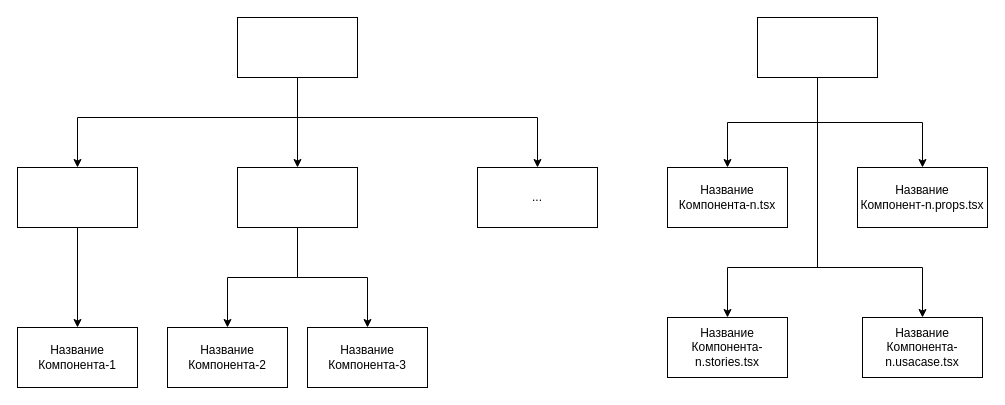
Some shapes in this 1005 by 405 pixel diagram are drawn without their labels. The shapes that lost their labels are listed below. From the top down, each one's centre as x and y in pixels, then its label:
At (297,47): "components".
At (817,47): "Название Компонента-n".
At (77,197): "Название Раздела-1".
At (297,197): "Название Раздела-2".
